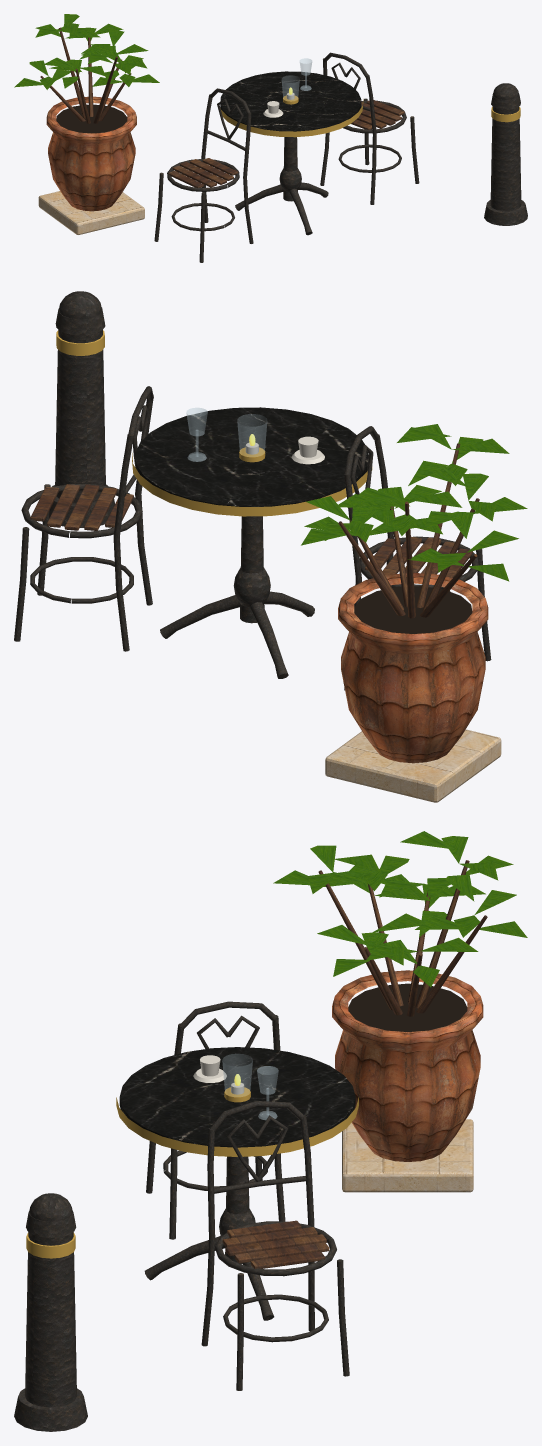
The model's file is cafe_terrace.glb.
3 views of the same model, one above another, from view 1: azimuth 30°, elevation 25°; view 2: azimuth 150°, elevation 25°; view 3: azimuth 270°, elevation 25° (orthographic). The views are drawn at different scales.
Visible parts, largest first — view 1: Planter, Table, Chair_R, Bollard, Chair_L; view 2: Planter, Table, Chair_L, Bollard, Chair_R; view 3: Planter, Table, Chair_L, Bollard, Chair_R.
Boxes of the visible parts, box(x1,y1,x2,y2) form: Planter: box(14, 14, 159, 234); Table: box(220, 58, 363, 235); Chair_R: box(154, 88, 253, 262); Bollard: box(484, 83, 527, 225); Chair_L: box(320, 52, 419, 204); Planter: box(301, 424, 527, 802); Table: box(132, 407, 372, 678); Chair_L: box(14, 386, 153, 651); Bollard: box(49, 291, 114, 527); Chair_R: box(344, 426, 491, 690); Planter: box(273, 831, 527, 1192); Table: box(116, 1047, 358, 1320); Chair_L: box(201, 1101, 349, 1390); Bollard: box(14, 1193, 87, 1431); Chair_R: box(146, 1001, 285, 1239).
Bounding box in the file's own units: 2.77 × 1.27 × 1.87.
11 materials, 6 textured.
